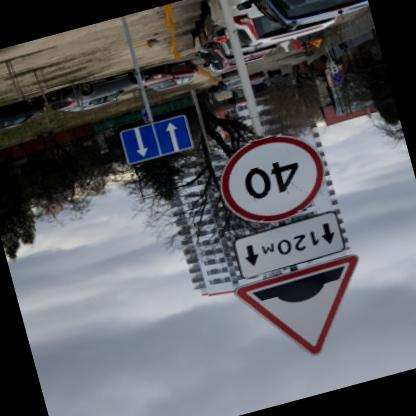speedlimit: (212, 124, 336, 234)
